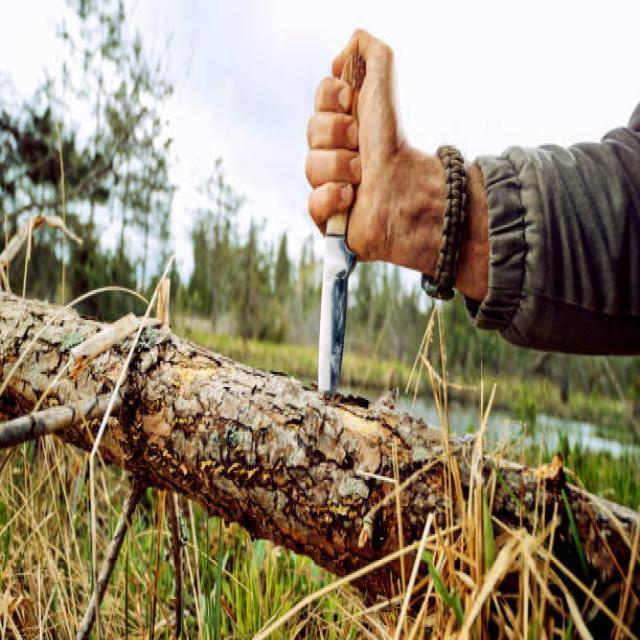faca: (293, 41, 413, 422)
